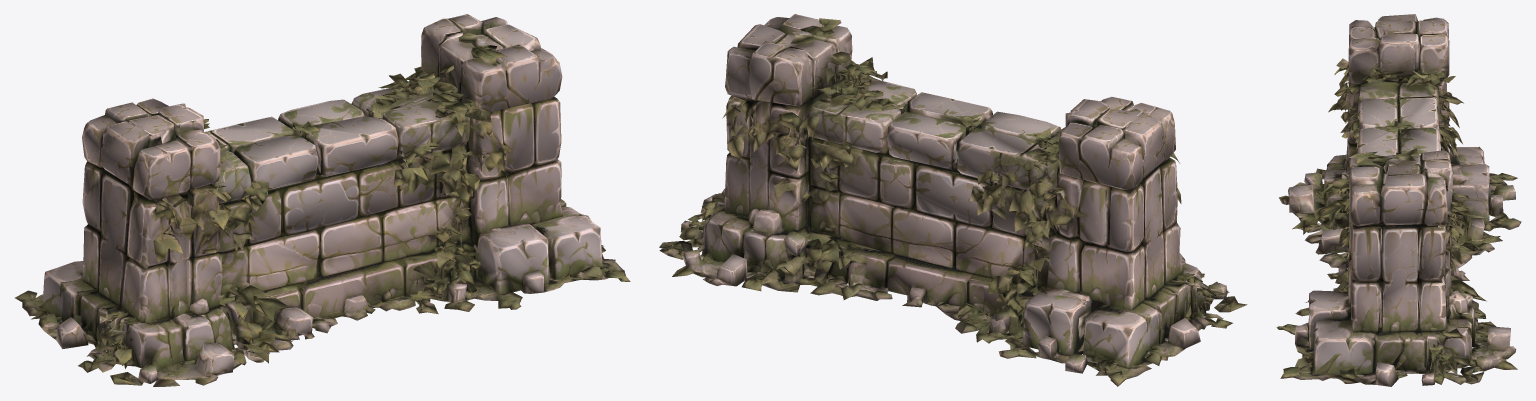
Rendered from SM_LowStoneWall.fbx.
The picture shows the model from 3 angles, left to right: view 1: azimuth 30°, elevation 25°; view 2: azimuth 150°, elevation 25°; view 3: azimuth 270°, elevation 25°; orthographic projection. The views are drawn at different scales.
Parts seen in each view (by area): view 1: Mesh_0; view 2: Mesh_0; view 3: Mesh_0.
Part boxes in pixels (<box>): Mesh_0: <box>14,14,630,386</box>; Mesh_0: <box>659,14,1247,386</box>; Mesh_0: <box>1276,14,1521,386</box>.
Size of the model in its own units: 190 by 75.31 by 89.34.
1 material, 1 textured.
